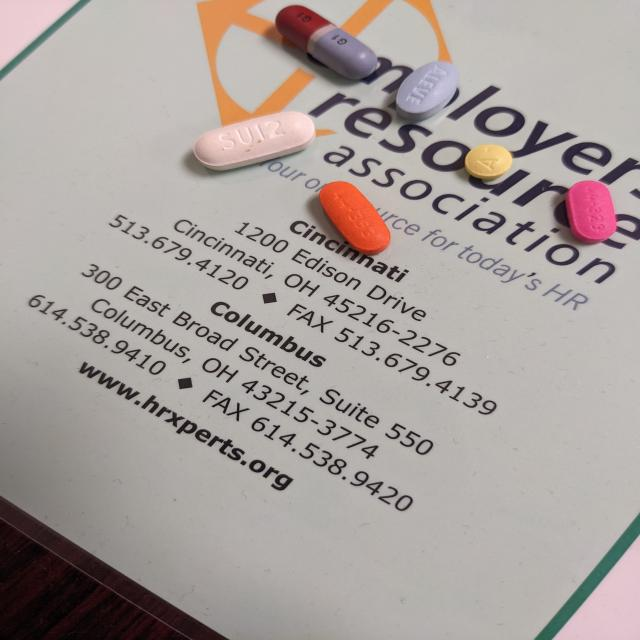non-organic waste: (274, 4, 378, 81), (192, 110, 317, 172), (318, 180, 391, 256), (394, 61, 461, 123), (563, 180, 618, 246), (464, 144, 513, 181)
